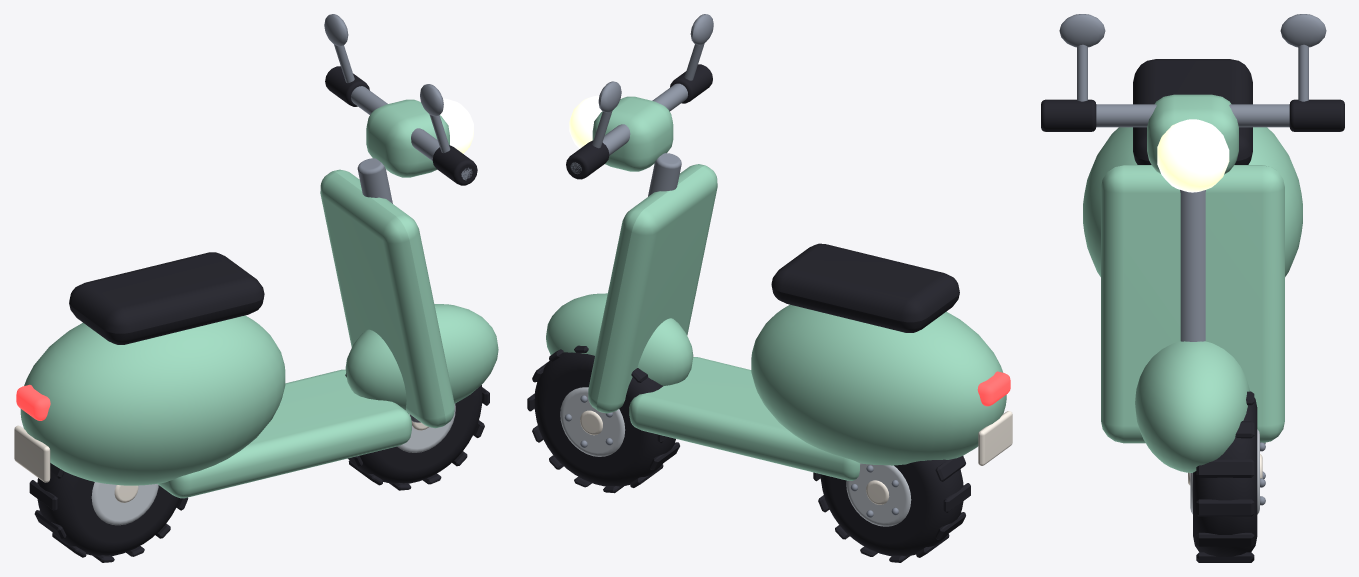
The model's file is scooter.glb.
The picture shows the model from 3 angles, left to right: view 1: azimuth 30°, elevation 25°; view 2: azimuth 150°, elevation 25°; view 3: azimuth 270°, elevation 25°; orthographic projection. The views are drawn at different scales.
Parts seen in each view (by area): view 1: scooter; view 2: scooter; view 3: scooter.
Part boxes in pixels (x1,y1,x2,y2): scooter: [14, 14, 498, 562]; scooter: [527, 14, 1012, 562]; scooter: [1041, 14, 1344, 562].
Size of the model in its own units: 1.36 by 1.24 by 0.66.
Materials: 1 (1 with a texture image).
